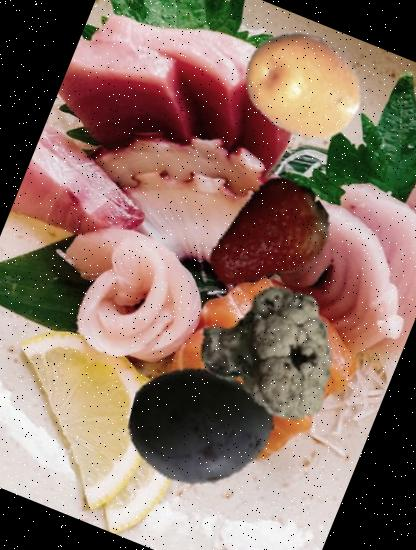Cauliflower: (174, 263, 356, 444)
Kumquats: (224, 6, 382, 165)
Plum: (106, 334, 295, 522)
Strawberry: (180, 152, 350, 323)
